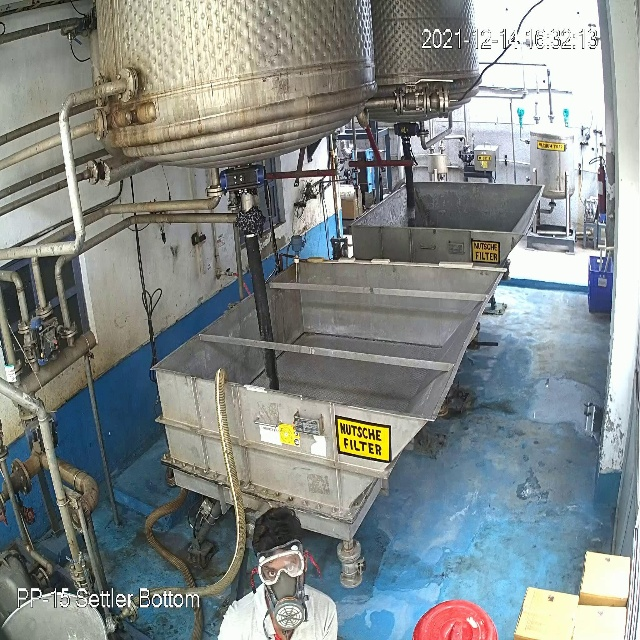Gafas: (252, 544, 307, 586)
Mascara: (262, 569, 311, 635)
